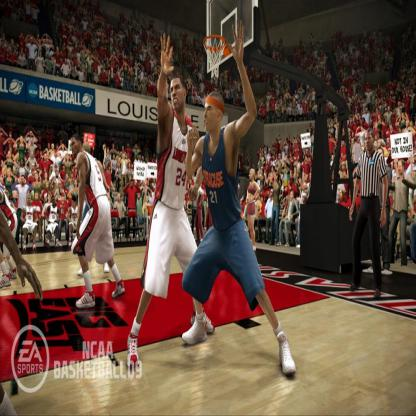face: (204, 98, 217, 132), (171, 80, 184, 111), (71, 139, 79, 159), (366, 132, 374, 151), (399, 163, 404, 174), (5, 191, 10, 200), (340, 191, 343, 200), (250, 172, 253, 180), (272, 190, 275, 198), (395, 160, 398, 168), (22, 178, 25, 185), (28, 197, 31, 204), (21, 160, 24, 167), (75, 180, 78, 187), (291, 193, 294, 200), (36, 193, 39, 200), (53, 199, 56, 206), (76, 170, 79, 177), (275, 175, 278, 182), (36, 174, 39, 180), (131, 182, 134, 188), (8, 170, 11, 176), (72, 200, 75, 206), (303, 196, 306, 202), (310, 174, 313, 180), (49, 195, 52, 201), (9, 153, 12, 159), (63, 167, 66, 173), (118, 195, 121, 201), (343, 164, 346, 170), (291, 171, 294, 177), (294, 174, 297, 180), (45, 155, 48, 160), (55, 167, 58, 172), (46, 184, 49, 189), (342, 141, 345, 146), (46, 174, 48, 180), (21, 138, 23, 144), (139, 194, 141, 200), (378, 133, 380, 139), (411, 122, 413, 128), (402, 122, 404, 128), (366, 109, 369, 113), (147, 197, 149, 202), (63, 196, 65, 201), (33, 171, 35, 176), (33, 166, 35, 171), (32, 153, 34, 158), (67, 174, 69, 179), (61, 189, 63, 194), (72, 174, 74, 179), (68, 156, 70, 161), (53, 145, 55, 150), (129, 164, 131, 169), (136, 145, 138, 150), (388, 139, 390, 144), (407, 122, 409, 127), (391, 125, 393, 130), (389, 106, 391, 111), (379, 116, 381, 121), (32, 140, 34, 144), (10, 149, 12, 153), (10, 134, 12, 138), (41, 153, 43, 157), (114, 155, 116, 159), (63, 145, 65, 149), (108, 149, 110, 153), (110, 166, 112, 170), (298, 173, 300, 177), (57, 173, 59, 176), (415, 155, 416, 161), (272, 168, 274, 171), (353, 134, 355, 137), (124, 155, 125, 160), (119, 163, 120, 167), (123, 147, 124, 151), (114, 144, 115, 148), (49, 144, 50, 148), (31, 133, 32, 136), (138, 156, 139, 159)
